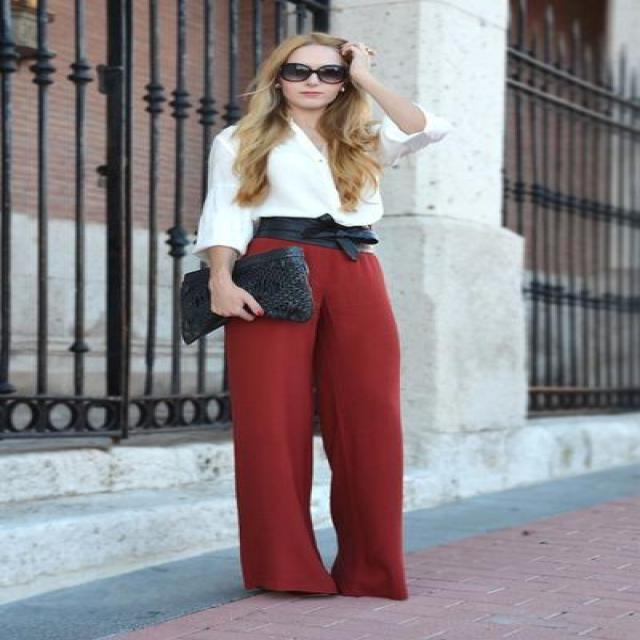bag: (174, 242, 312, 337)
pants: (222, 236, 406, 599)
shirt: (190, 115, 420, 252)
sunglass: (270, 54, 333, 88)
